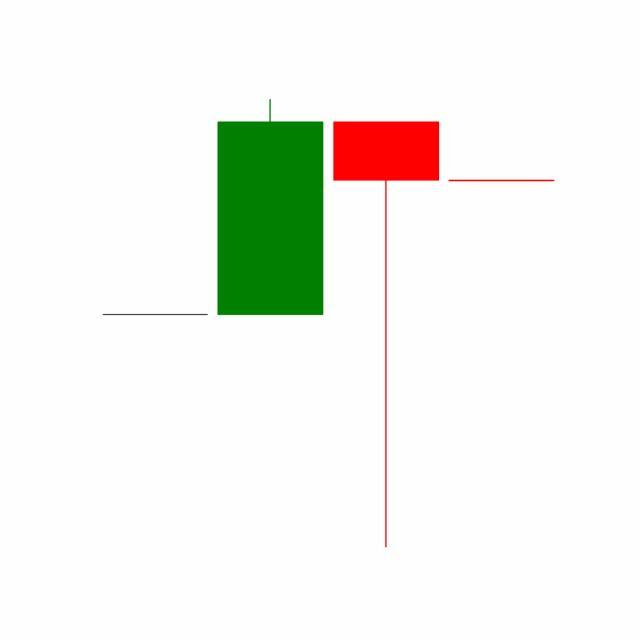Dragonfly Doji: (329, 117, 445, 553)
